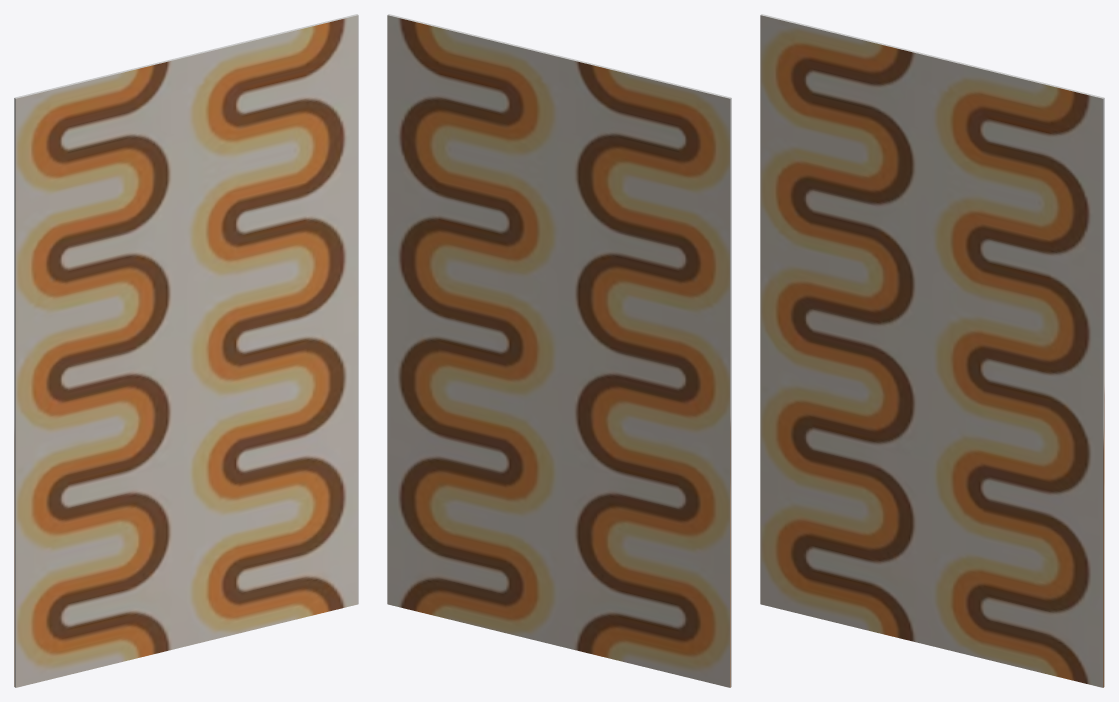
The model's file is wallDesign3Curve.glb.
3 renders of one model, left to right at view 1: azimuth 30°, elevation 25°; view 2: azimuth 150°, elevation 25°; view 3: azimuth 330°, elevation 25°, orthographic.
Visible parts, largest first — view 1: Cube; view 2: Cube; view 3: Cube.
Part boxes in pixels (<box>): Cube: <box>14,14,358,687</box>; Cube: <box>387,14,731,687</box>; Cube: <box>760,14,1104,687</box>.
Size of the model in its own units: 2.79 by 4.57 by 0.0217.
Materials: 1 (1 with a texture image).
